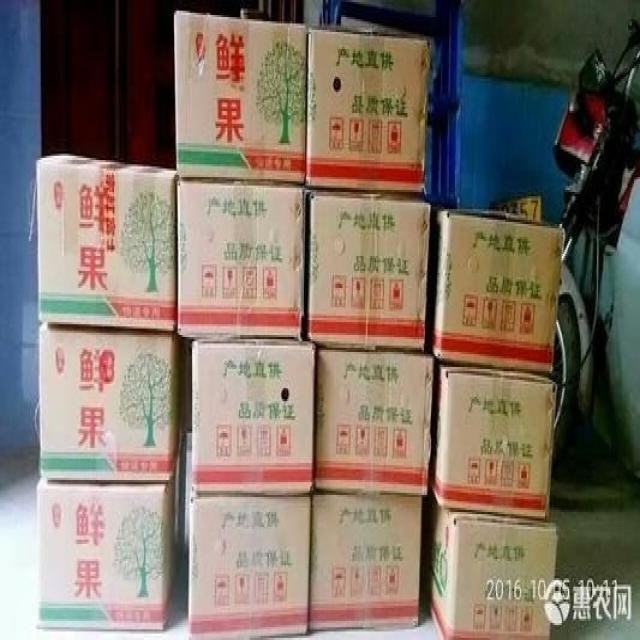box: (36, 154, 177, 331), (37, 461, 179, 631), (174, 11, 309, 183), (38, 324, 183, 482), (429, 209, 564, 375), (305, 26, 433, 194), (177, 181, 305, 339), (307, 190, 431, 352), (431, 365, 556, 525), (191, 339, 317, 497), (427, 499, 558, 640), (189, 495, 311, 640), (315, 348, 433, 493), (309, 495, 421, 631)
